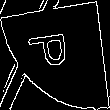P_E: (30, 33, 80, 77)
